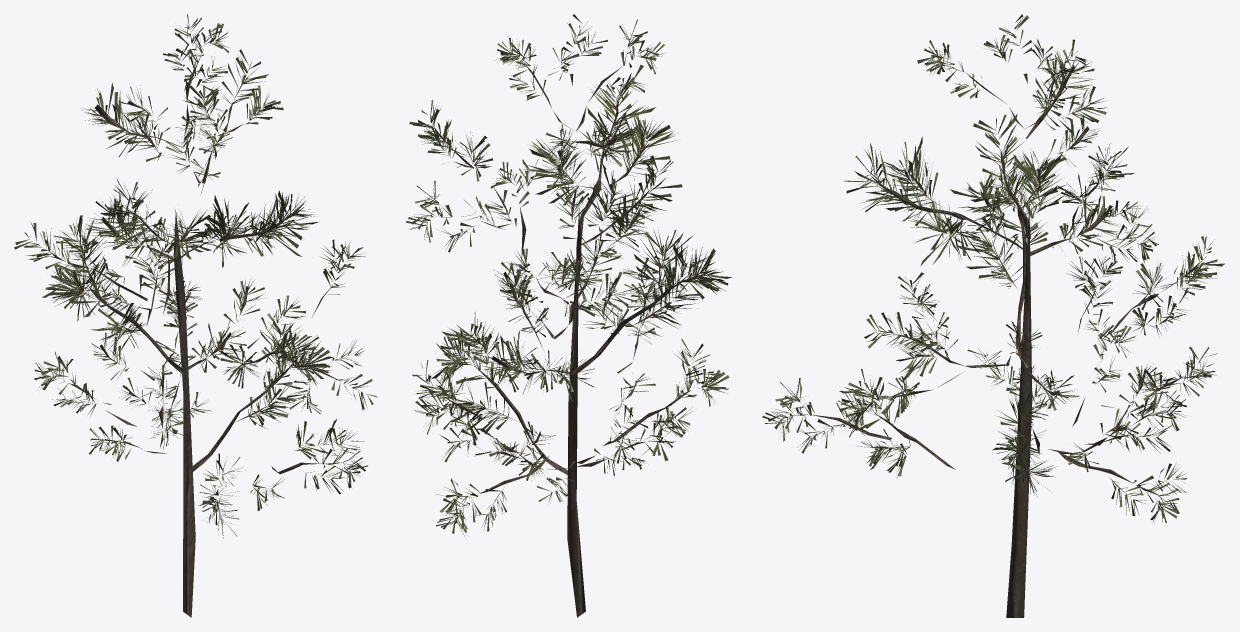
The model's file is pine_sapling_small-far.glb.
3 renders of one model, left to right at view 1: azimuth 30°, elevation 25°; view 2: azimuth 150°, elevation 25°; view 3: azimuth 270°, elevation 25°, orthographic. The views are drawn at different scales.
Parts seen in each view (by area): view 1: pine_sapling_small_b; view 2: pine_sapling_small_b; view 3: pine_sapling_small_b.
Part boxes in pixels (box(x1,y1,x2,y2)): pine_sapling_small_b: box(14, 14, 377, 617); pine_sapling_small_b: box(406, 14, 732, 617); pine_sapling_small_b: box(762, 14, 1224, 617).
Size of the model in its own units: 0.5287 by 1.04 by 0.7264.
Materials: 2 (2 with a texture image).
